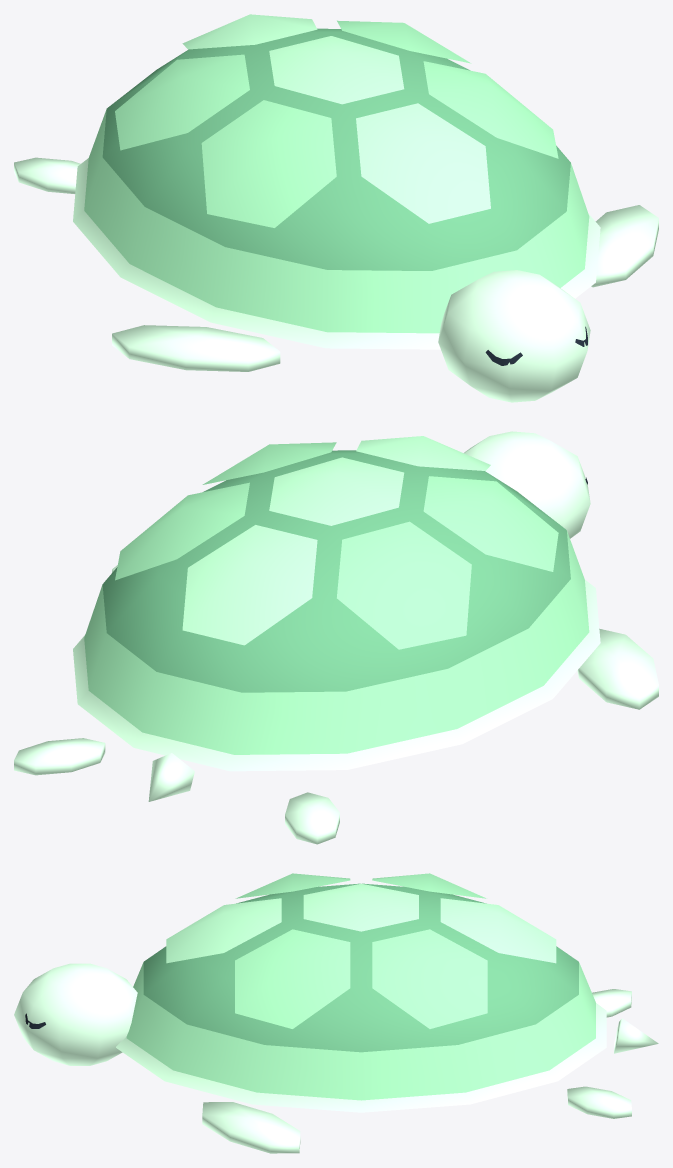
The model's file is sea-turtle-sleep.glb.
3 views of the same model, one above another, from view 1: azimuth 30°, elevation 25°; view 2: azimuth 150°, elevation 25°; view 3: azimuth 270°, elevation 25° (orthographic). The views are drawn at different scales.
Visible parts, largest first — view 1: sea-turtle-sleep; view 2: sea-turtle-sleep; view 3: sea-turtle-sleep.
Boxes of the visible parts, x1=… form: sea-turtle-sleep: x1=14, y1=14, x2=658, y2=402; sea-turtle-sleep: x1=14, y1=431, x2=658, y2=844; sea-turtle-sleep: x1=14, y1=873, x2=658, y2=1153.
Size of the model in its own units: 3 by 1.2 by 4.
